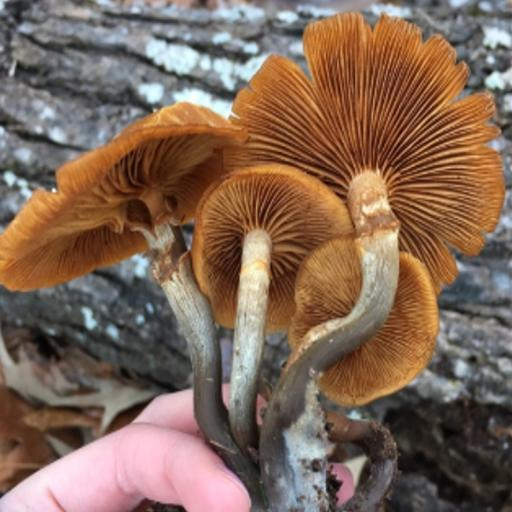mushroom: (4, 8, 512, 393)
